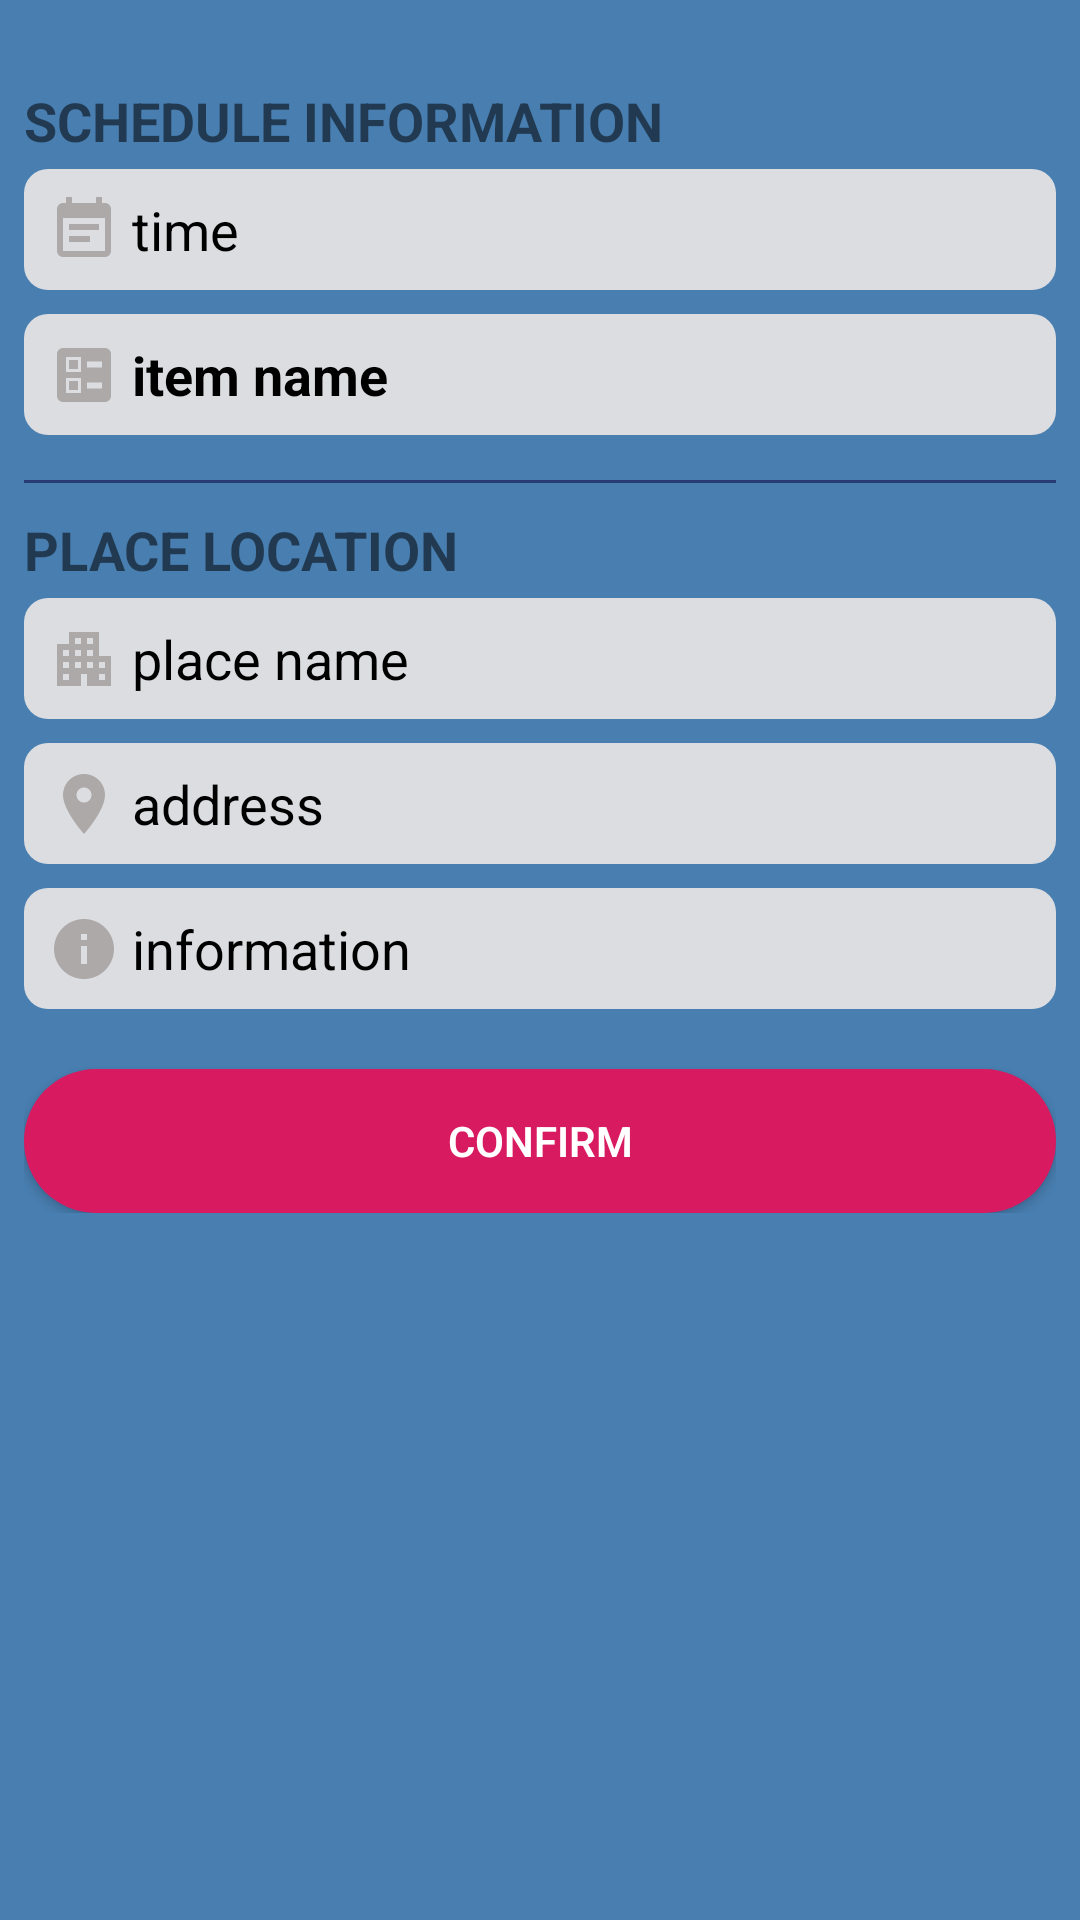

Where icons sit on this 1080px×1920px app screen, as (x1, y1, x2, y2):
Place Location: (63, 774, 105, 833)
